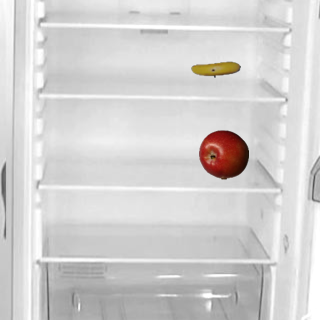Apple Braeburn: (198, 129, 248, 179)
Banana: (190, 44, 240, 94)
